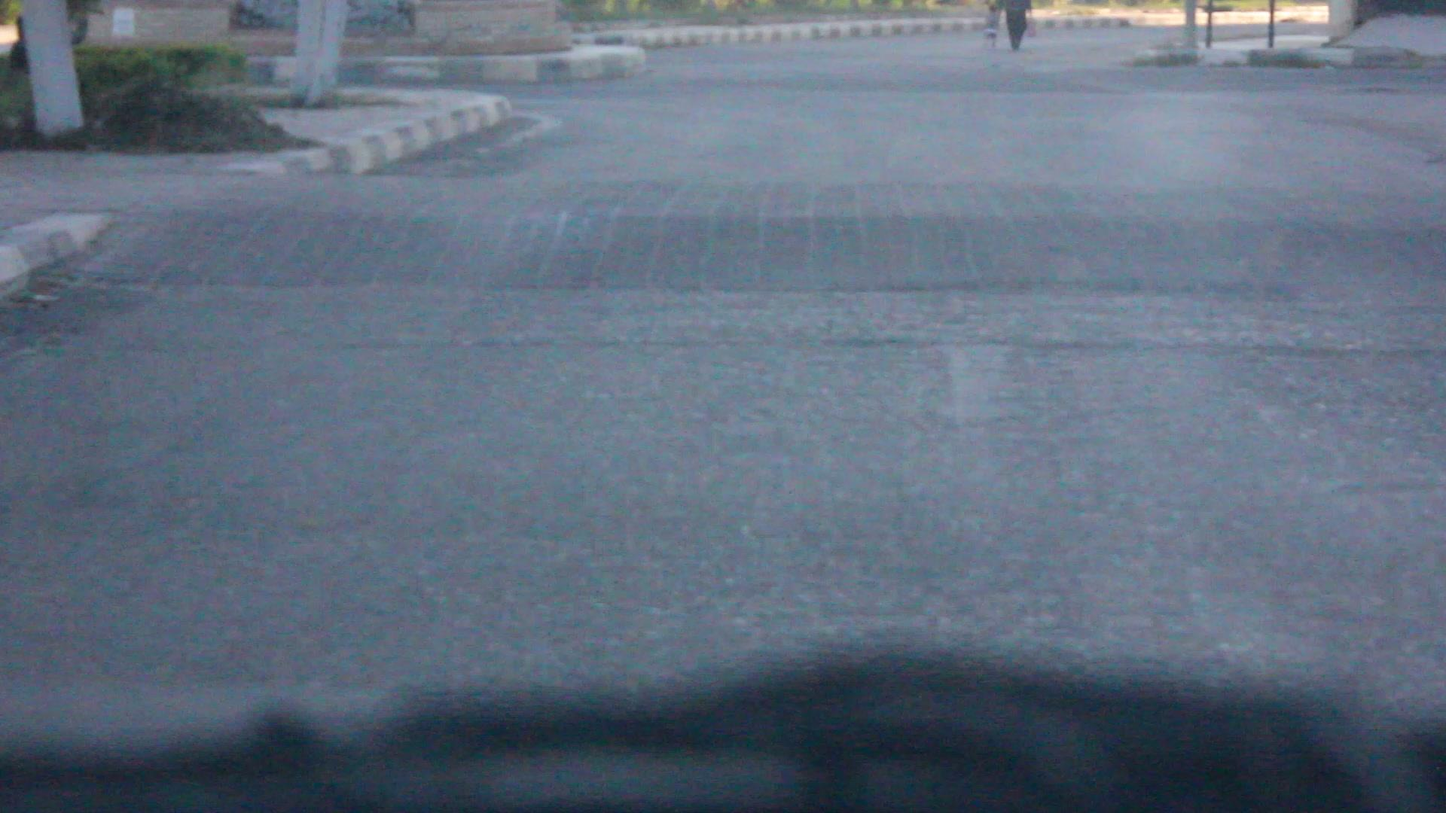Bump: (47, 156, 1445, 301)
